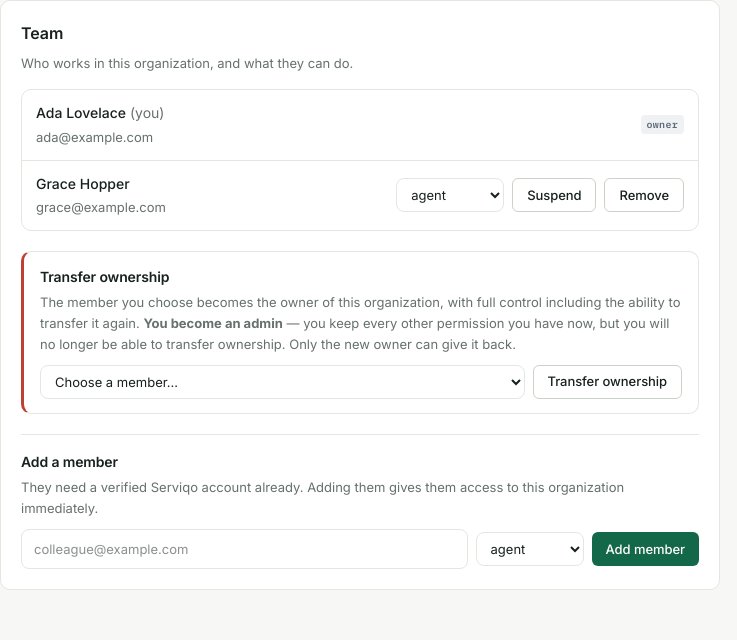
TeamManagement › adding a member › confirms the addition using the name the SERVER resolved
This screenshot has width=737, height=640.
Expected: the text "Grace Hopper" is shown, [36, 175, 130, 192]
In the field named "email address": x=244, y=549 [21, 528, 468, 569], type "new@example.com"
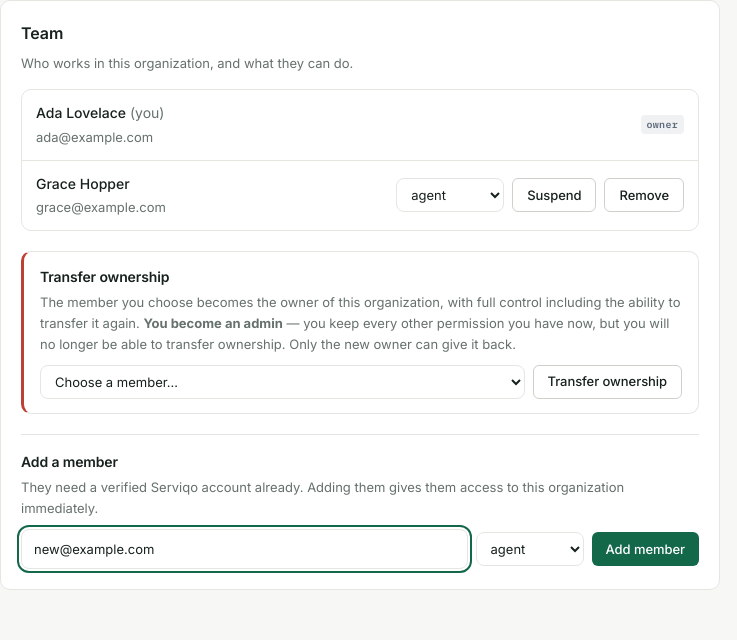
Click the button "Add member": x=645, y=549 [592, 532, 699, 566]
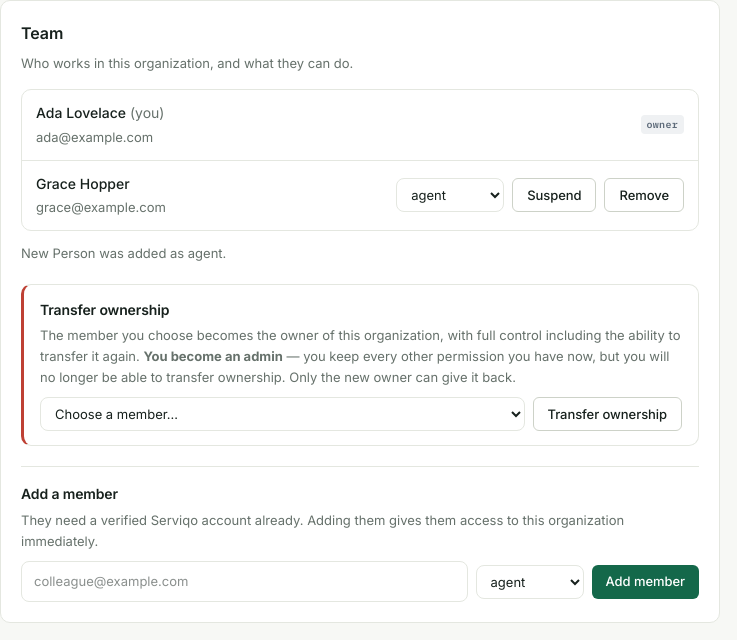
Now the text "New Person was added as agent." is shown, box [21, 245, 226, 261]
